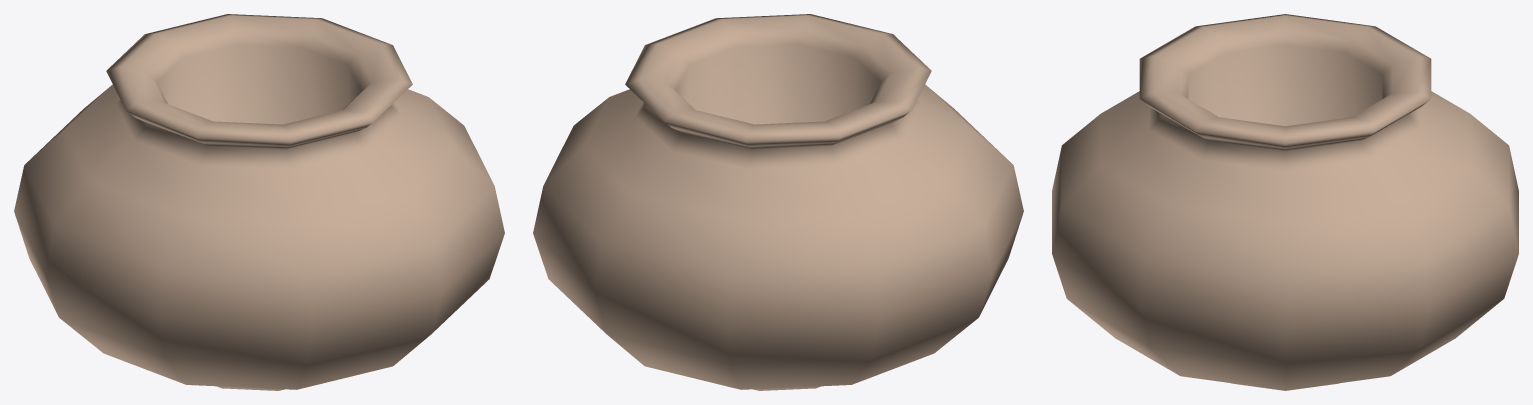
File: pot3.fbx
3 views of the same model, side by side, from view 1: azimuth 30°, elevation 25°; view 2: azimuth 150°, elevation 25°; view 3: azimuth 270°, elevation 25° (orthographic).
Parts seen in each view (by area): view 1: pot3_small_round; view 2: pot3_small_round; view 3: pot3_small_round.
Boxes of the visible parts, x1,y1,x2,y2 form: pot3_small_round: (14,14,504,390); pot3_small_round: (533,14,1023,390); pot3_small_round: (1052,14,1518,390).
Size of the model in its own units: 96 by 60 by 91.3.
